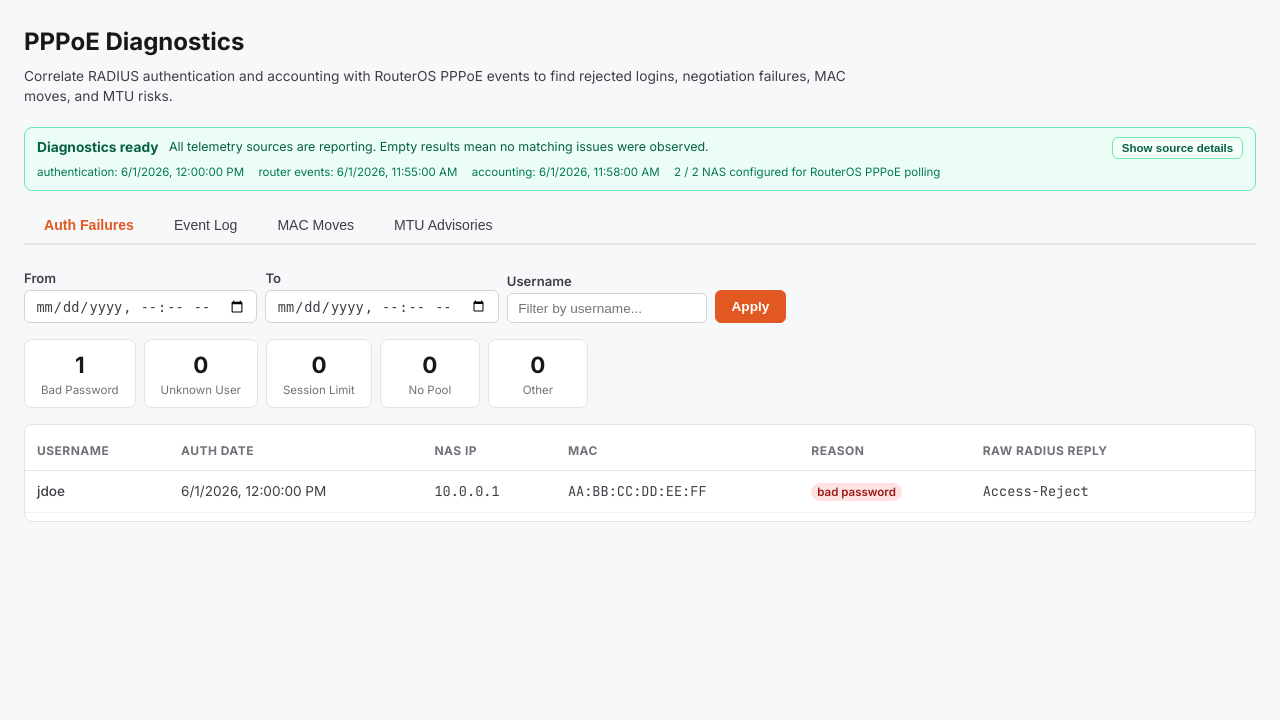
Scenario: PppoeDiagnostics page › unwraps the real MTU envelope and shows the complete advisory evidence
Click the tab "MTU Advisories": (443, 226) x1=374 y1=207 x2=513 y2=244
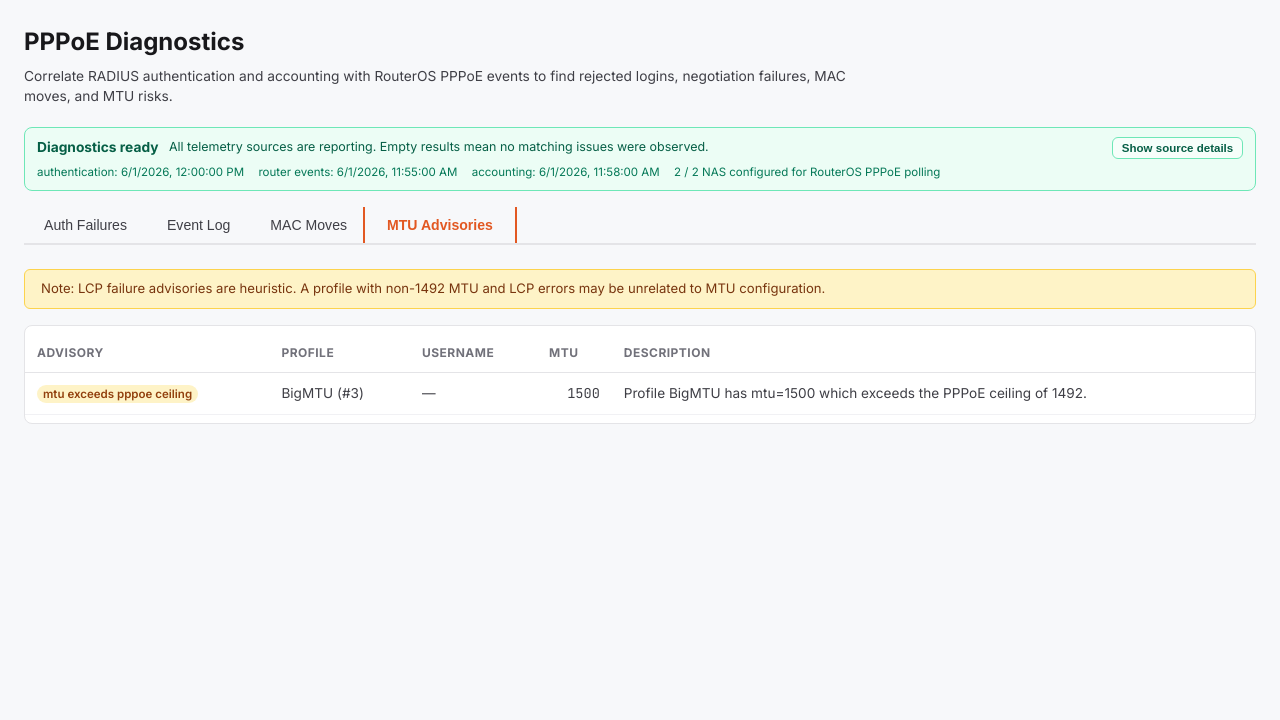
Now the text "BigMTU (#3)" is shown, box x1=269 y1=372 x2=410 y2=414
Now the text "heuristic" is shown, box x1=41 y1=280 x2=825 y2=296
